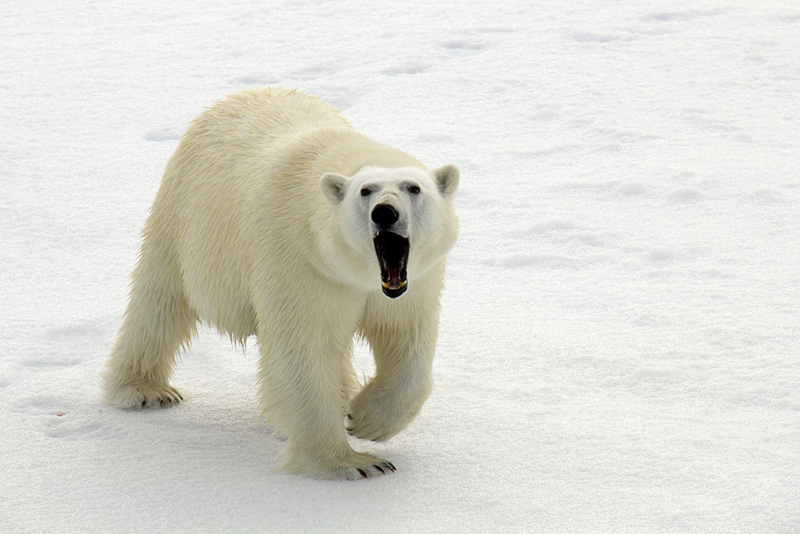Polar Bear: (108, 56, 491, 476)
